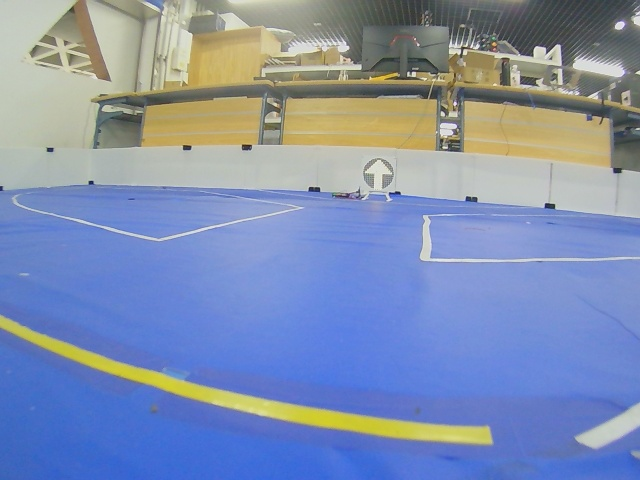straight_yellow: (362, 157, 396, 192)
